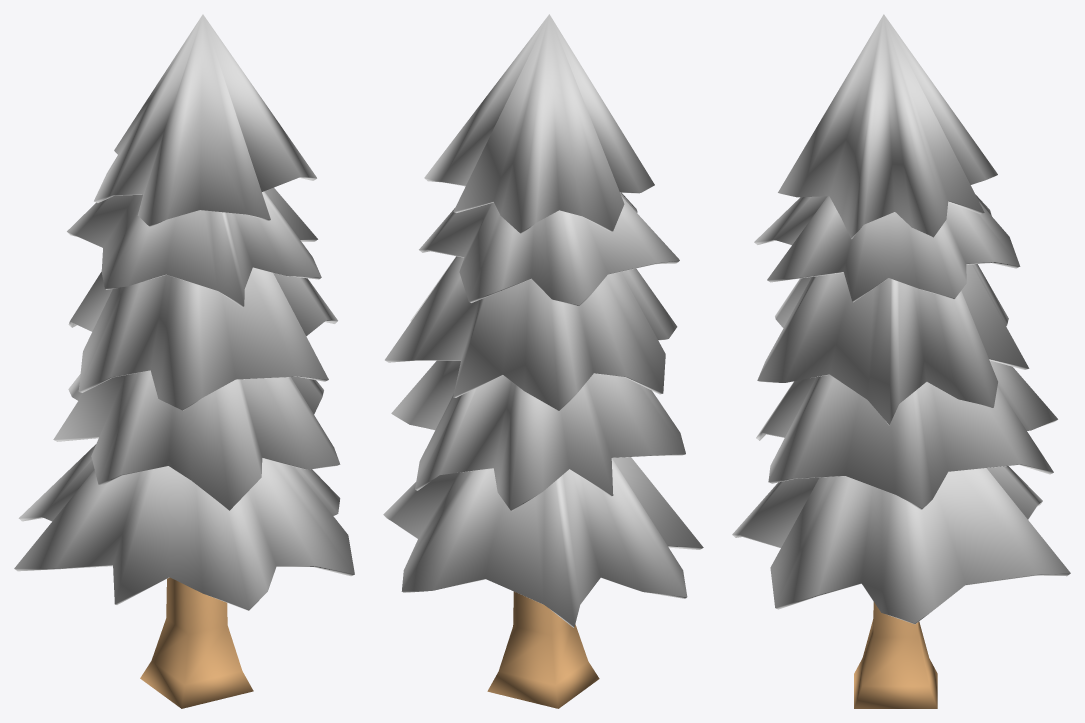
File: lowPolySpruce.glb
3 views of the same model, side by side, from view 1: azimuth 30°, elevation 25°; view 2: azimuth 150°, elevation 25°; view 3: azimuth 270°, elevation 25° (orthographic).
Visible parts, largest first — view 1: Circle, Cube; view 2: Circle, Cube; view 3: Circle, Cube.
Part boxes in pixels (box(x1,y1,x2,y2)): Circle: box(14, 14, 354, 610); Cube: box(140, 577, 253, 708); Circle: box(383, 14, 703, 627); Cube: box(487, 591, 599, 708); Circle: box(732, 14, 1070, 624); Cube: box(854, 602, 937, 708).
Size of the model in its own units: 2.24 by 4.56 by 2.07.
